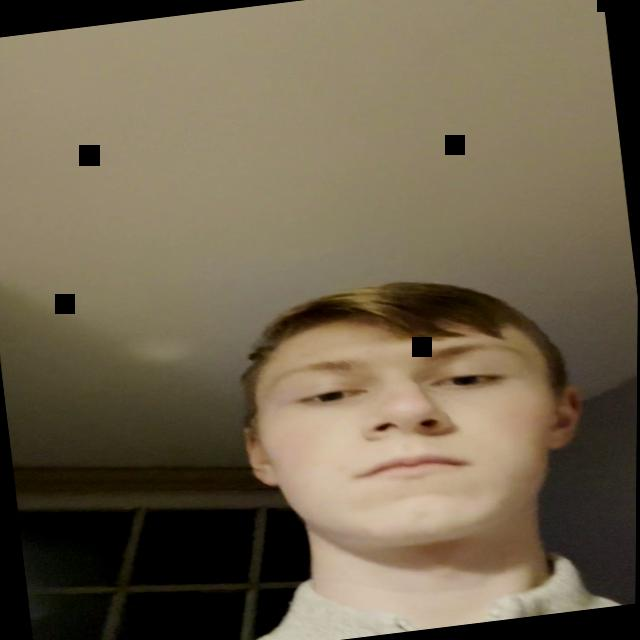NO-Mask: (223, 245, 600, 592)
